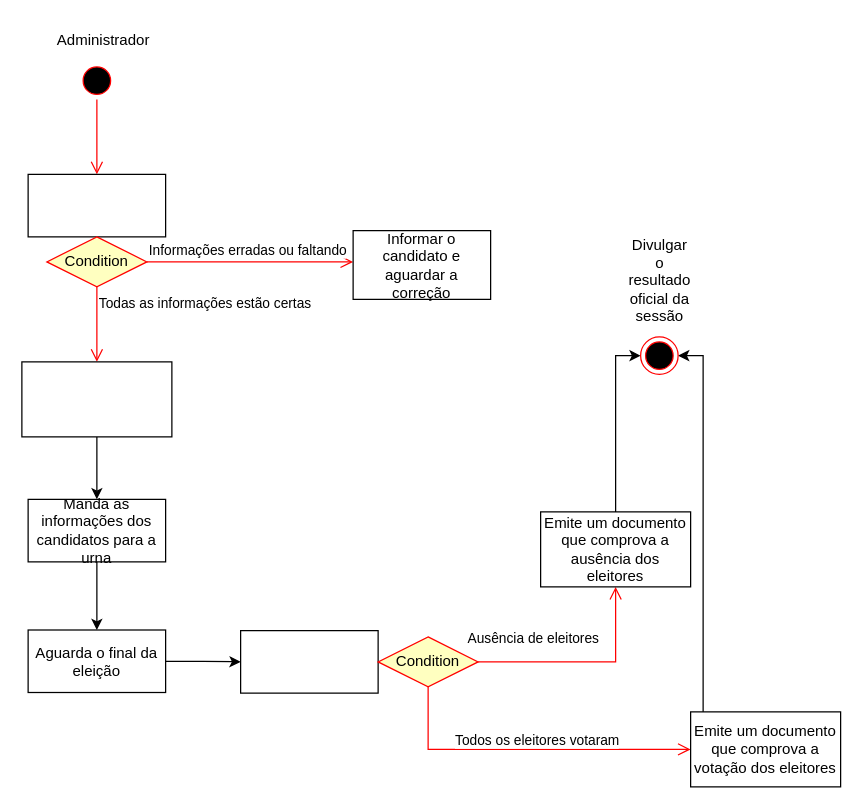
The diagram is 863 pixels wide and 809 high, and some of its shapes have lost their labels. Here are the shapes that lost their labels. From the top down, the centre of each, then its label:
At point 96,205: "Realizar o cadastro dos candidatos".
At point 96,399: "Emite um documento comprovando todos os candidatos cadastrados".
At point 308,661: "Acessa o relatório de votos".
